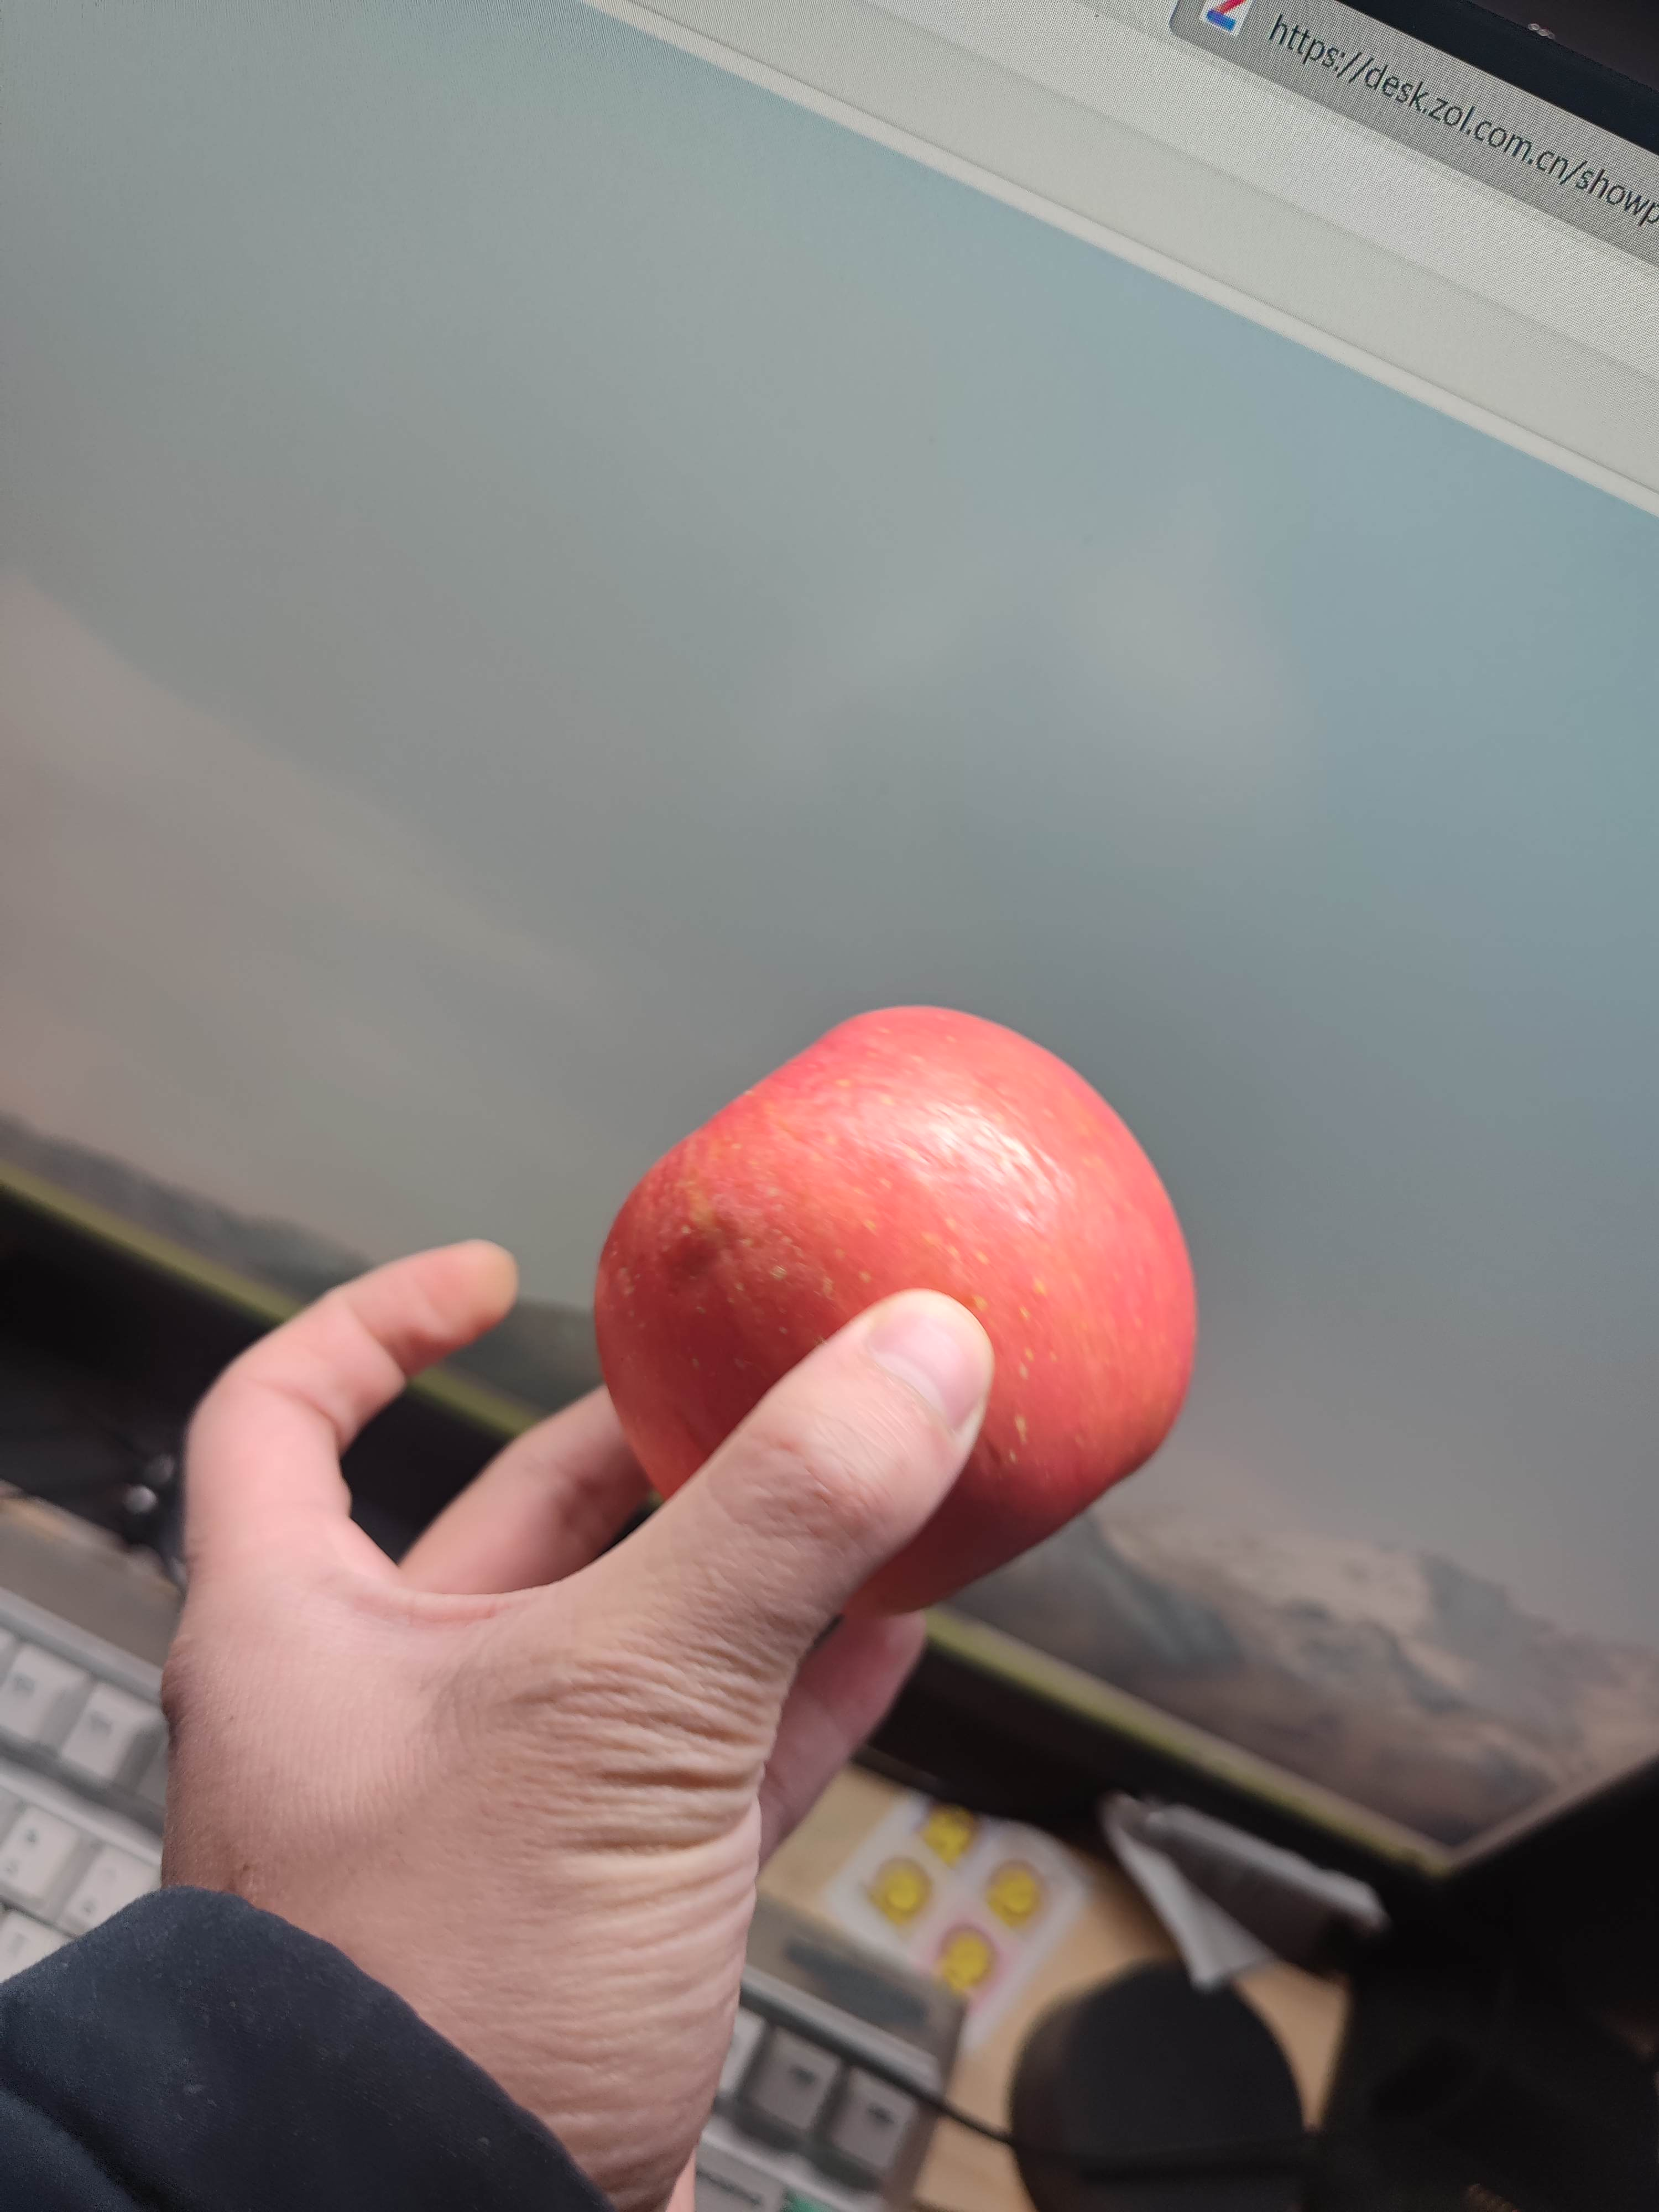apple: (573, 993, 1220, 1627)
